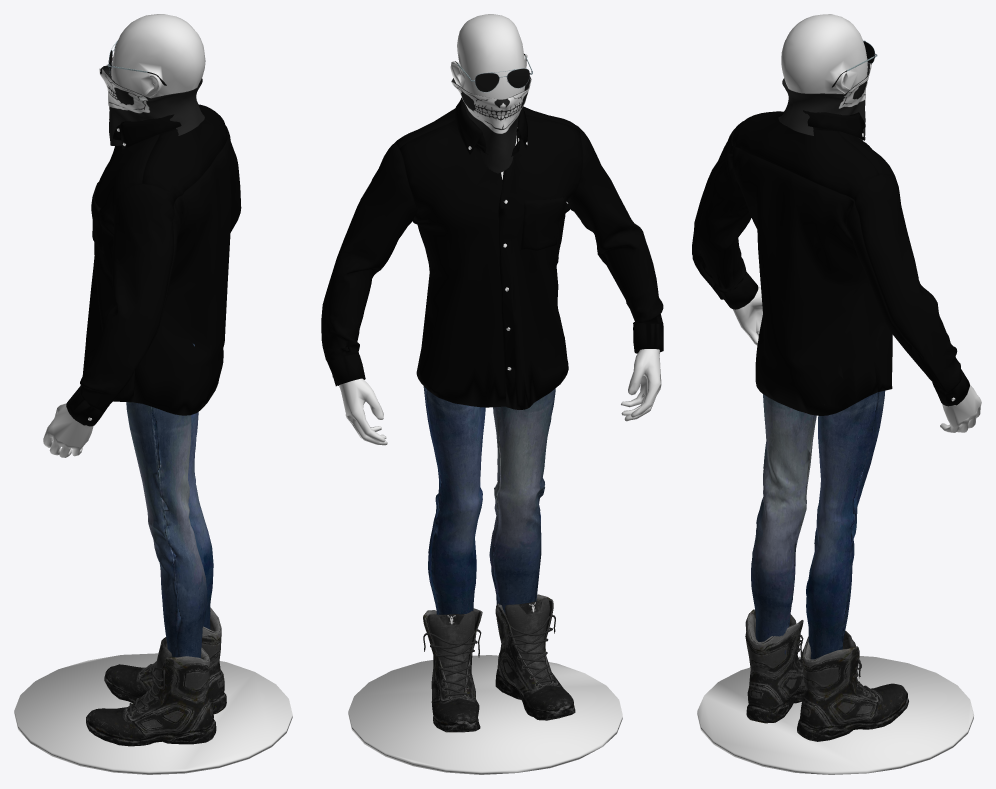
Rendered from newManwithBandana.glb.
3 views of the same model, side by side, from view 1: azimuth 30°, elevation 25°; view 2: azimuth 150°, elevation 25°; view 3: azimuth 270°, elevation 25° (orthographic).
Visible parts, largest first — view 1: t-shirt, buttons, JEANS_BACK_0.001, Object_2.018, Object_7, Object_2; view 2: t-shirt, buttons, JEANS_BACK_0.001, Object_2.018, Object_7, Object_2, Lenses; view 3: t-shirt, buttons, JEANS_BACK_0.001, Object_2.018, Object_7.
Boxes of the visible parts, box(x1,y1,x2,y2) form: t-shirt: box(66, 104, 241, 426); buttons: box(14, 14, 292, 774); JEANS_BACK_0.001: box(126, 343, 213, 658); Object_2.018: box(86, 607, 226, 746); Object_7: box(100, 65, 204, 145); Object_2: box(99, 64, 149, 113); t-shirt: box(321, 98, 663, 409); buttons: box(332, 14, 661, 774); JEANS_BACK_0.001: box(423, 386, 555, 627); Object_2.018: box(423, 594, 575, 732); Object_7: box(451, 76, 530, 173); Object_2: box(452, 78, 531, 133); Lenses: box(455, 54, 532, 92); t-shirt: box(692, 110, 969, 415); buttons: box(697, 14, 981, 774); JEANS_BACK_0.001: box(751, 390, 885, 659); Object_2.018: box(745, 609, 908, 741); Object_7: box(778, 63, 870, 140).
Size of the model in its own units: 0.5705 by 1.46 by 0.5496.
6 materials, 4 textured.
